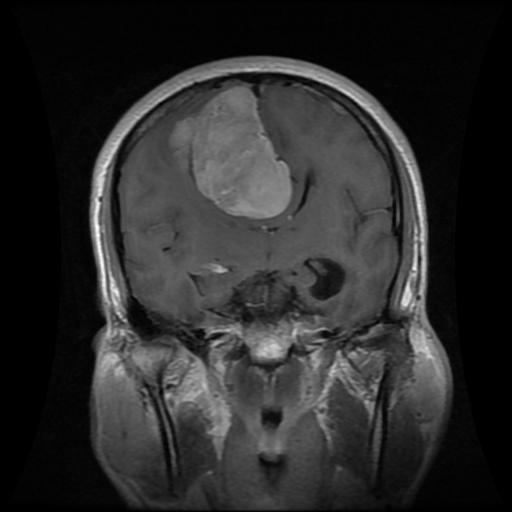meningioma: (166, 85, 292, 218)
